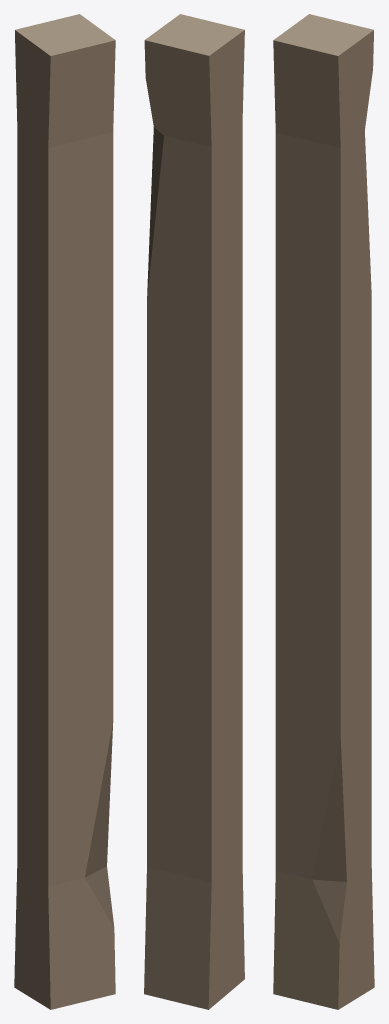
File: FencePost.obj
3 views of the same model, side by side, from view 1: azimuth 30°, elevation 25°; view 2: azimuth 150°, elevation 25°; view 3: azimuth 330°, elevation 25° (orthographic).
Parts seen in each view (by area): view 1: FencePost; view 2: FencePost; view 3: FencePost.
Part boxes in pixels (box(x1,y1,x2,y2)): FencePost: box(14, 14, 115, 1009); FencePost: box(144, 14, 244, 1009); FencePost: box(273, 14, 374, 1009).
Size of the model in its own units: 0.1349 by 1.9 by 0.131.
1 material, 1 textured.
